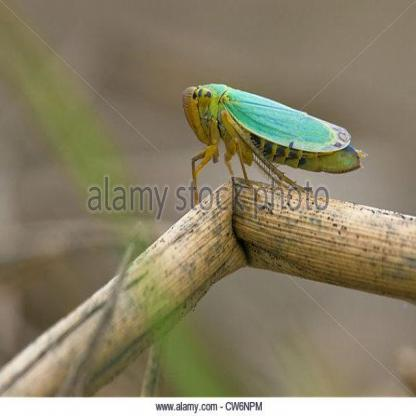Green-Leafhopper: (176, 81, 372, 206)
